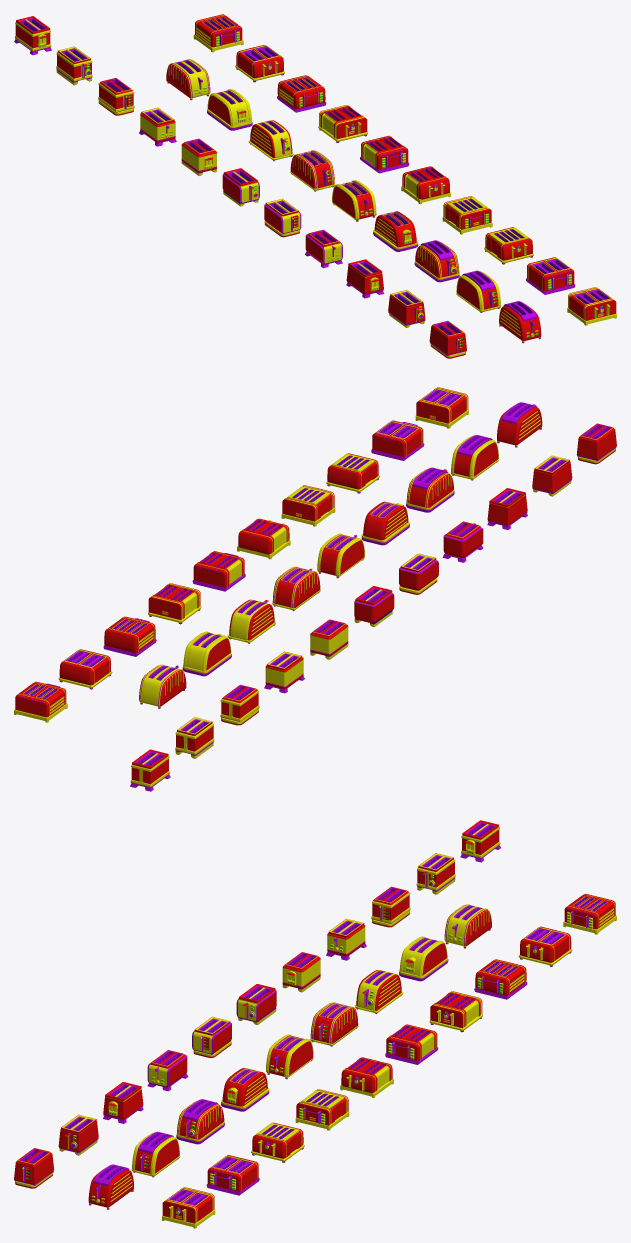
File: toasters_grp.fbx
The picture shows the model from 3 angles, top to bottom: view 1: azimuth 30°, elevation 25°; view 2: azimuth 150°, elevation 25°; view 3: azimuth 330°, elevation 25°; orthographic projection. The views are drawn at different scales.
Parts seen in each view (by area): view 1: toaster_14, toaster_19, toaster_24, toaster_21, toaster_13, toaster_28, toaster_22, toaster_26, toaster_30, toaster_27, toaster_25, toaster_17 (+18 smaller); view 2: toaster_19, toaster_14, toaster_24, toaster_21, toaster_13, toaster_22, toaster_28, toaster_26, toaster_30, toaster_27, toaster_25, toaster_17 (+18 smaller); view 3: toaster_14, toaster_24, toaster_19, toaster_21, toaster_13, toaster_26, toaster_22, toaster_28, toaster_30, toaster_27, toaster_25, toaster_17 (+18 smaller).
Part boxes in pixels (x1,y1,x2,y2): toaster_14: (414, 240, 459, 282); toaster_19: (207, 89, 252, 130); toaster_24: (442, 196, 492, 234); toaster_21: (567, 287, 616, 325); toaster_13: (456, 270, 501, 312); toaster_28: (277, 75, 326, 112); toaster_22: (526, 257, 575, 294); toaster_26: (360, 135, 409, 173); toaster_30: (193, 14, 243, 52); toaster_27: (318, 105, 367, 142); toaster_25: (401, 166, 450, 204); toaster_17: (290, 150, 335, 191); toaster_19: (182, 631, 231, 676); toaster_14: (406, 467, 454, 512); toaster_24: (281, 485, 335, 526); toaster_21: (415, 387, 468, 428); toaster_13: (450, 435, 499, 480); toaster_22: (371, 420, 424, 460); toaster_28: (103, 616, 156, 656); toaster_26: (192, 551, 245, 591); toaster_30: (14, 681, 67, 722); toaster_27: (148, 583, 201, 624); toaster_25: (237, 518, 290, 559); toaster_17: (272, 566, 320, 611); toaster_14: (176, 1099, 224, 1144); toaster_24: (295, 1089, 349, 1130); toaster_19: (399, 936, 448, 981); toaster_21: (162, 1187, 215, 1228); toaster_13: (131, 1131, 180, 1177); toaster_26: (385, 1024, 438, 1064); toaster_22: (206, 1155, 259, 1195); toaster_28: (474, 959, 527, 999); toaster_30: (563, 893, 616, 934); toaster_27: (429, 991, 482, 1032); toaster_25: (340, 1057, 393, 1097); toaster_17: (310, 1002, 358, 1046).
Bounding box in the file's own units: 236 × 35.12 × 1057.
